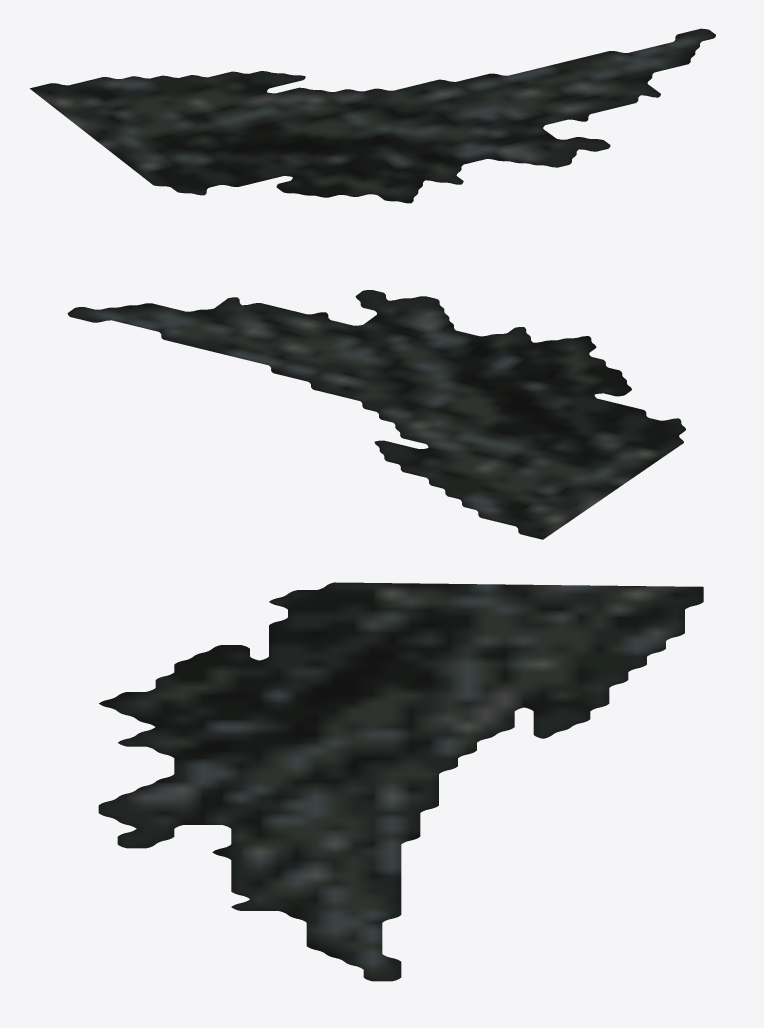
The model's file is SM_EC_Tree_Part_Card_06.fbx.
The picture shows the model from 3 angles, top to bottom: view 1: azimuth 30°, elevation 25°; view 2: azimuth 150°, elevation 25°; view 3: azimuth 270°, elevation 25°; orthographic projection. The views are drawn at different scales.
Parts seen in each view (by area): view 1: SM_EC_Tree_Part_Card_06; view 2: SM_EC_Tree_Part_Card_06; view 3: SM_EC_Tree_Part_Card_06.
Boxes of the visible parts, box(x1,y1,x2,y2) form: SM_EC_Tree_Part_Card_06: box(30, 28, 715, 203); SM_EC_Tree_Part_Card_06: box(67, 290, 685, 539); SM_EC_Tree_Part_Card_06: box(98, 582, 703, 981).
Size of the model in its own units: 0.8469 by 0.6082 by 3.39e-10.
